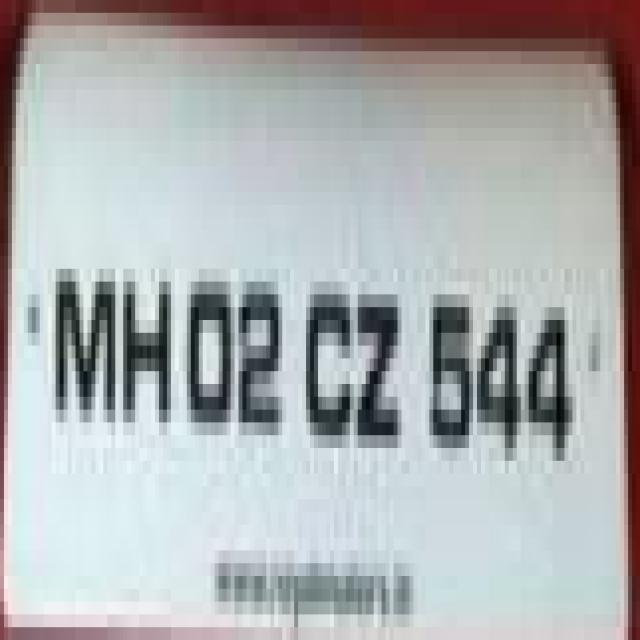license_plate: (20, 38, 640, 614)
